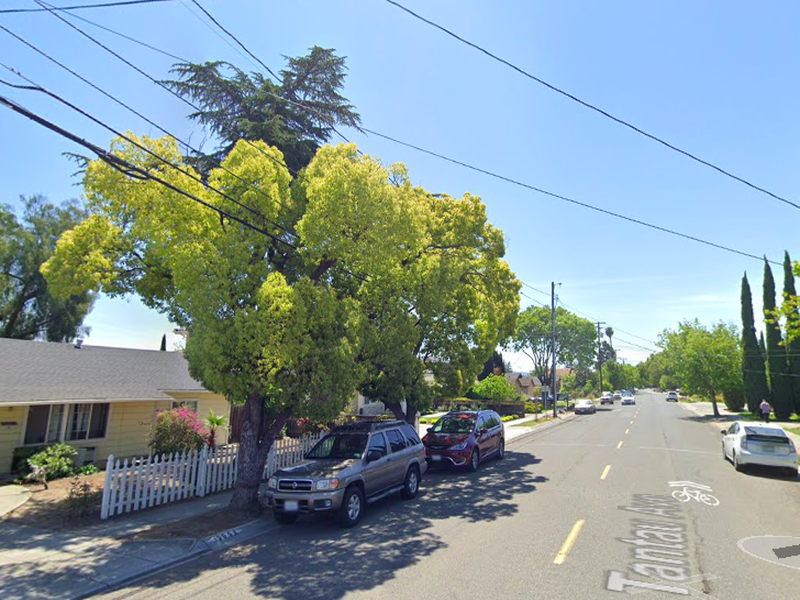tree: (38, 128, 436, 515), (358, 186, 522, 435)
